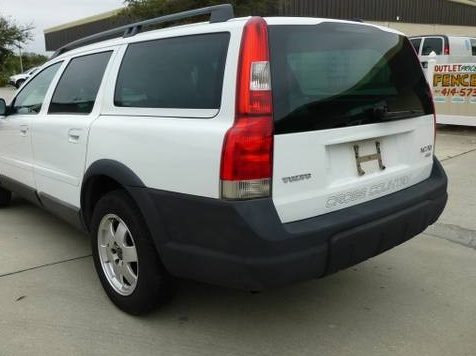volvo: (2, 5, 476, 321)
